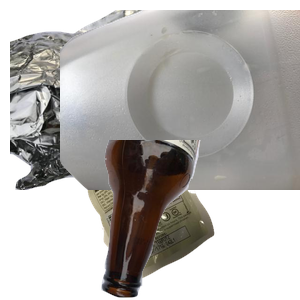glass: (99, 140, 300, 300)
metal: (10, 10, 250, 190)
plastic: (60, 10, 300, 190)
trash: (84, 126, 291, 300)
